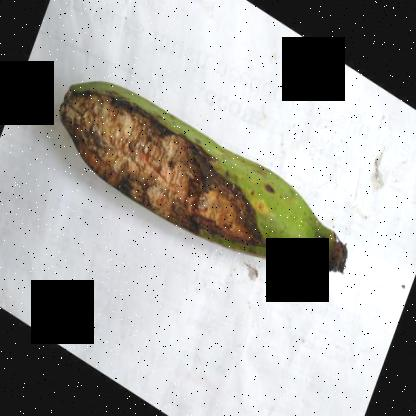rotten: (57, 81, 282, 255)
